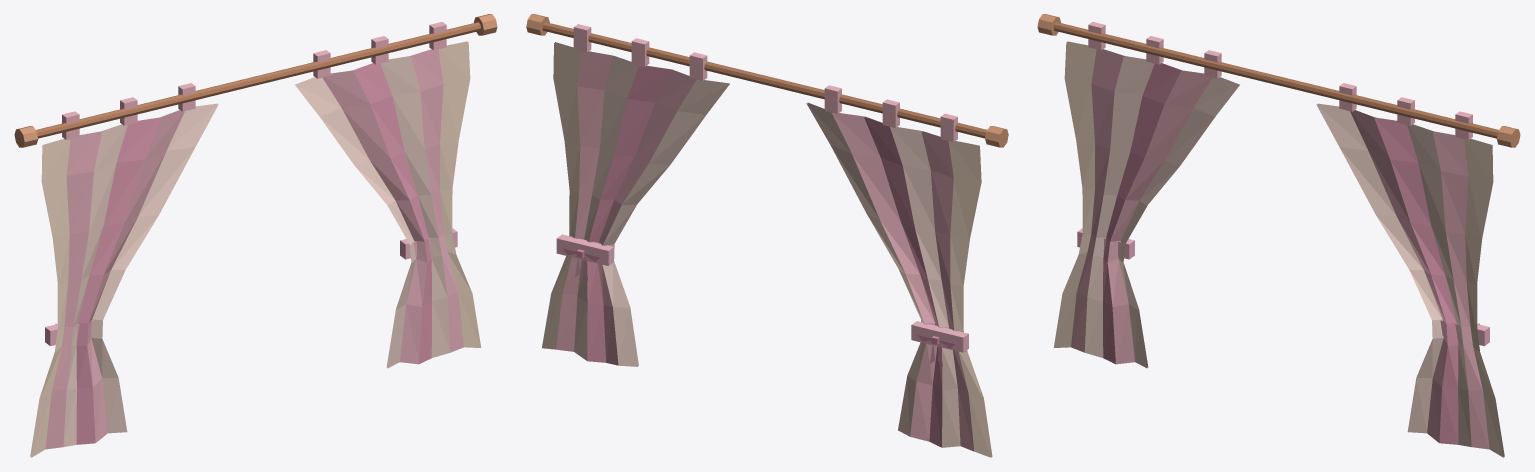
The model's file is 03_Cortinas_Atadas_Ventana.obj.
3 renders of one model, left to right at view 1: azimuth 30°, elevation 25°; view 2: azimuth 150°, elevation 25°; view 3: azimuth 330°, elevation 25°, orthographic.
Visible parts, largest first — view 1: Reverso_Izq, Reverso_Der, Barral_Madera, Trabillas, Panel_Izquierdo, Cintas_Atadas, Panel_Derecho; view 2: Panel_Derecho, Panel_Izquierdo, Barral_Madera, Trabillas, Cintas_Atadas, Moños_Cortinas, Reverso_Izq, Reverso_Der; view 3: Reverso_Der, Reverso_Izq, Barral_Madera, Trabillas, Panel_Derecho, Cintas_Atadas, Panel_Izquierdo.
Part boxes in pixels (x1=…): Reverso_Izq: x1=31, y1=104, x2=218, y2=457; Reverso_Der: x1=296, y1=42, x2=481, y2=368; Barral_Madera: x1=14, y1=14, x2=497, y2=147; Trabillas: x1=62, y1=21, x2=446, y2=139; Panel_Izquierdo: x1=30, y1=103, x2=217, y2=456; Cintas_Atadas: x1=45, y1=228, x2=457, y2=346; Panel_Derecho: x1=295, y1=41, x2=467, y2=367; Panel_Derecho: x1=542, y1=43, x2=728, y2=366; Panel_Izquierdo: x1=806, y1=103, x2=991, y2=457; Barral_Madera: x1=526, y1=14, x2=1008, y2=147; Trabillas: x1=573, y1=24, x2=957, y2=142; Cintas_Atadas: x1=556, y1=234, x2=968, y2=352; Moños_Cortinas: x1=562, y1=242, x2=955, y2=366; Reverso_Izq: x1=807, y1=102, x2=992, y2=456; Reverso_Der: x1=555, y1=42, x2=729, y2=365; Reverso_Der: x1=1316, y1=104, x2=1503, y2=457; Reverso_Izq: x1=1053, y1=42, x2=1238, y2=368; Barral_Madera: x1=1037, y1=14, x2=1520, y2=147; Trabillas: x1=1088, y1=21, x2=1472, y2=139; Panel_Derecho: x1=1317, y1=103, x2=1504, y2=456; Cintas_Atadas: x1=1077, y1=228, x2=1489, y2=346; Panel_Izquierdo: x1=1067, y1=41, x2=1239, y2=367.
Size of the model in its own units: 2.09 by 1.4 by 0.12.
